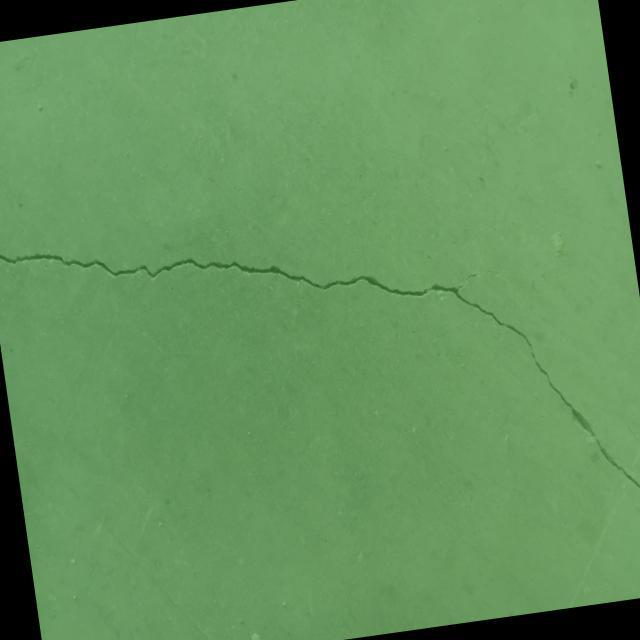crack: (0, 161, 640, 604)
